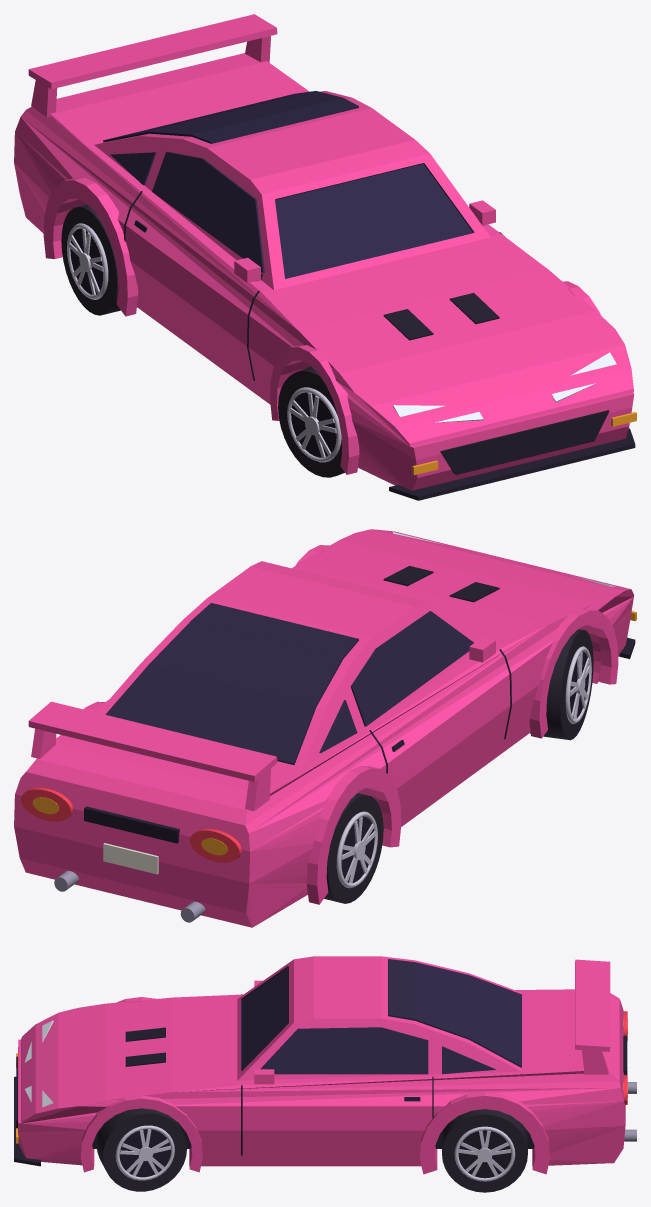
File: toro_2j_blaze.glb
3 views of the same model, one above another, from view 1: azimuth 30°, elevation 25°; view 2: azimuth 150°, elevation 25°; view 3: azimuth 270°, elevation 25° (orthographic). The views are drawn at different scales.
Parts seen in each view (by area): view 1: body_top, body_shoulder, body_flank, cabin, glass_windshield, body_low_front, glass_door, wing_blade, body_low_mid, mouth, flare_rear_L, flare_front_L (+14 smaller); view 2: body_top, body_shoulder, body_flank, cabin, body_low_rear, glass_rear_0, glass_rear_1, wing_blade, glass_door, body_low_mid, flare_rear_L, glass_rear_2 (+15 smaller); view 3: body_top, body_shoulder, body_flank, cabin, body_low_mid, glass_door, glass_rear_0, flare_rear_R, wheel_FR_tire, glass_rear_1, wheel_RR_tire, wing_blade (+14 smaller).
Part boxes in pixels (x1,y1,x2,y2): body_top: (21,53,548,331); body_shoulder: (15,117,614,392); body_flank: (14,132,633,446); cabin: (94,91,490,290); glass_windshield: (275,163,474,278); body_low_front: (352,392,634,490); glass_door: (152,151,264,273); wing_blade: (28,14,277,89); body_low_mid: (130,261,306,404); mouth: (440,410,609,474); flare_rear_L: (43,177,138,316); flare_front_L: (270,345,359,474); body_top: (21,563,548,833); body_shoulder: (15,533,614,851); body_flank: (14,529,633,883); cabin: (98,561,480,767); body_low_rear: (14,826,312,927); glass_rear_0: (105,664,316,764); glass_rear_1: (149,620,343,706); wing_blade: (28,701,277,781); glass_door: (350,611,473,726); body_low_mid: (372,685,538,826); flare_rear_L: (306,766,401,904); glass_rear_2: (192,603,358,658); body_top: (172,989,620,1091); body_shoulder: (78,997,624,1106); body_flank: (21,1008,625,1130); cabin: (237,956,521,1080); body_low_mid: (189,1130,437,1166); glass_door: (260,1027,428,1074); glass_rear_0: (469,975,521,1067); flare_rear_R: (419,1092,549,1174); wheel_FR_tire: (96,1108,186,1191); glass_rear_1: (415,962,469,1039); wheel_RR_tire: (442,1109,527,1192); wing_blade: (575,959,610,1051).
Bounding box in the file's own units: 1.87 × 1.27 × 4.63.
